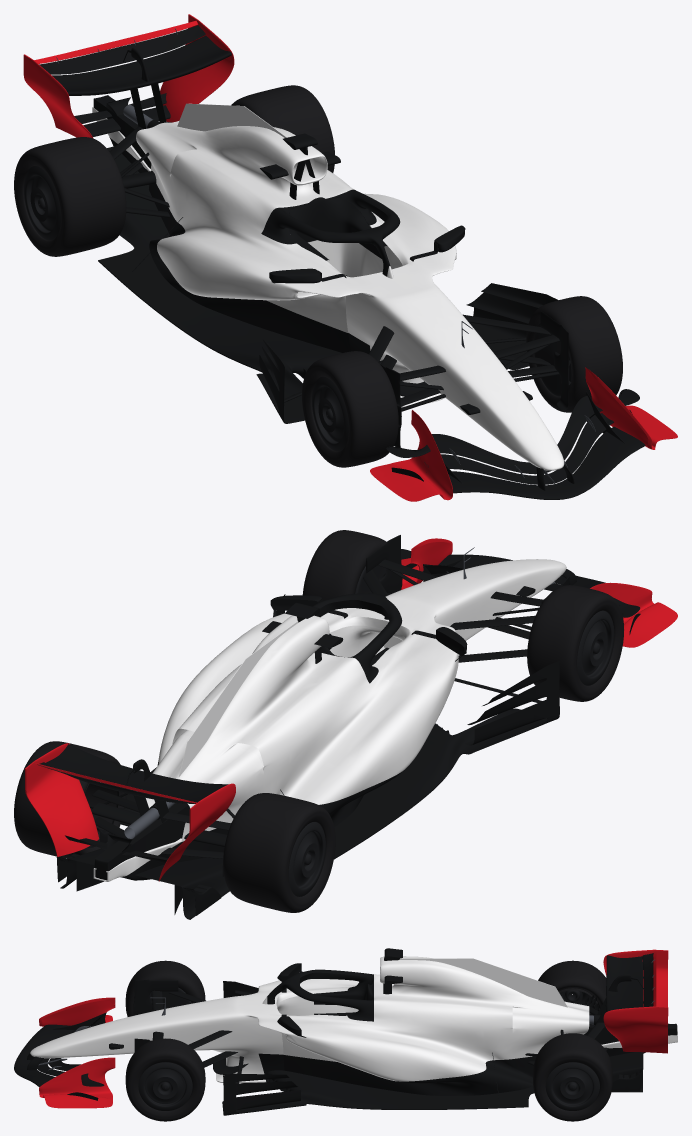
The model's file is hermes-hm27.glb.
3 views of the same model, one above another, from view 1: azimuth 30°, elevation 25°; view 2: azimuth 150°, elevation 25°; view 3: azimuth 270°, elevation 25° (orthographic). The views are drawn at different scales.
Parts seen in each view (by area): view 1: Body_Paint, Floor_Carbon, Body_Carbon, FrontWing_Carbon, RearWing_Carbon, Wheel_RR_Tyre, Wheel_FR_Tyre, Suspension_Carbon, RearWing_Accent, FrontWing_Accent, Wheel_FL_Tyre, Wheel_RL_Tyre (+4 smaller); view 2: Body_Paint, Floor_Carbon, Wheel_RR_Tyre, Body_Carbon, Suspension_Carbon, RearWing_Accent, Wheel_FR_Tyre, RearWing_Carbon, FrontWing_Accent, Wheel_FL_Tyre, Wheel_RL_Tyre, Halo_Carbon (+4 smaller); view 3: Body_Paint, Floor_Carbon, Body_Carbon, FrontWing_Accent, Wheel_RL_Tyre, RearWing_Accent, Wheel_FL_Tyre, RearWing_Carbon, Suspension_Carbon, FrontWing_Carbon, Halo_Carbon, Wheel_RL_Rim (+5 smaller).
Part boxes in pixels (x1=…): Body_Paint: x1=92, y1=103, x2=564, y2=470; Floor_Carbon: x1=98, y1=146, x2=558, y2=423; Body_Carbon: x1=93, y1=95, x2=532, y2=414; FrontWing_Carbon: x1=386, y1=389, x2=645, y2=499; RearWing_Carbon: x1=39, y1=25, x2=231, y2=136; Wheel_RR_Tyre: x1=14, y1=137, x2=126, y2=256; Wheel_FR_Tyre: x1=302, y1=351, x2=398, y2=467; Suspension_Carbon: x1=109, y1=122, x2=571, y2=447; RearWing_Accent: x1=23, y1=14, x2=234, y2=138; FrontWing_Accent: x1=370, y1=367, x2=677, y2=501; Wheel_FL_Tyre: x1=526, y1=296, x2=622, y2=412; Wheel_RL_Tyre: x1=231, y1=85, x2=334, y2=172; Body_Paint: x1=93, y1=559, x2=566, y2=881; Floor_Carbon: x1=56, y1=594, x2=559, y2=919; Wheel_RR_Tyre: x1=223, y1=793, x2=335, y2=912; Body_Carbon: x1=76, y1=586, x2=535, y2=914; Suspension_Carbon: x1=88, y1=535, x2=569, y2=876; RearWing_Accent: x1=24, y1=743, x2=235, y2=881; Wheel_FR_Tyre: x1=527, y1=585, x2=623, y2=701; RearWing_Carbon: x1=37, y1=744, x2=228, y2=863; FrontWing_Accent: x1=401, y1=538, x2=677, y2=647; Wheel_FL_Tyre: x1=302, y1=530, x2=386, y2=600; Wheel_RL_Tyre: x1=14, y1=741, x2=126, y2=858; Halo_Carbon: x1=312, y1=593, x2=402, y2=683; Body_Paint: x1=30, y1=956, x2=677, y2=1083; Floor_Carbon: x1=213, y1=981, x2=643, y2=1115; Body_Carbon: x1=109, y1=948, x2=677, y2=1095; FrontWing_Accent: x1=39, y1=997, x2=115, y2=1108; Wheel_RL_Tyre: x1=533, y1=1033, x2=612, y2=1121; RearWing_Accent: x1=603, y1=949, x2=668, y2=1053; Wheel_FL_Tyre: x1=125, y1=1038, x2=205, y2=1121; RearWing_Carbon: x1=596, y1=953, x2=653, y2=1027; Suspension_Carbon: x1=133, y1=979, x2=608, y2=1088; FrontWing_Carbon: x1=14, y1=1012, x2=106, y2=1100; Halo_Carbon: x1=267, y1=969, x2=373, y2=1021; Wheel_RL_Rim: x1=545, y1=1062, x2=599, y2=1110.
Bounding box in the file's own units: 1.88 × 1.15 × 5.54.
